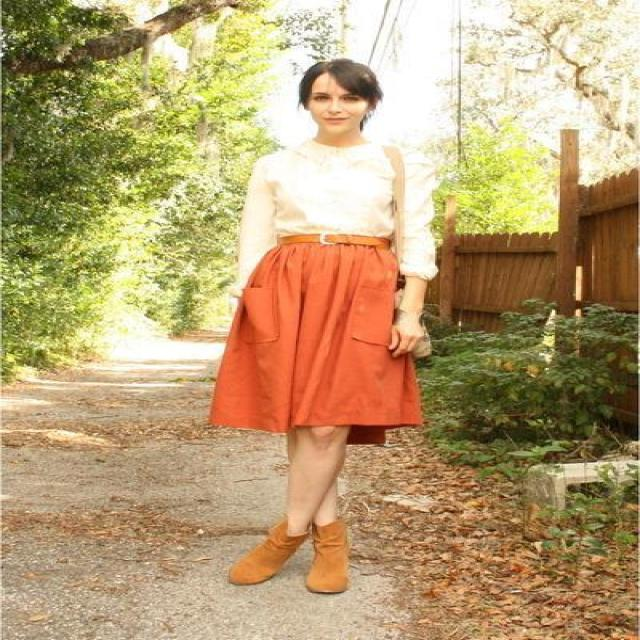shirt: (214, 141, 442, 293)
shoe: (229, 514, 355, 594)
skirt: (208, 232, 422, 446)
